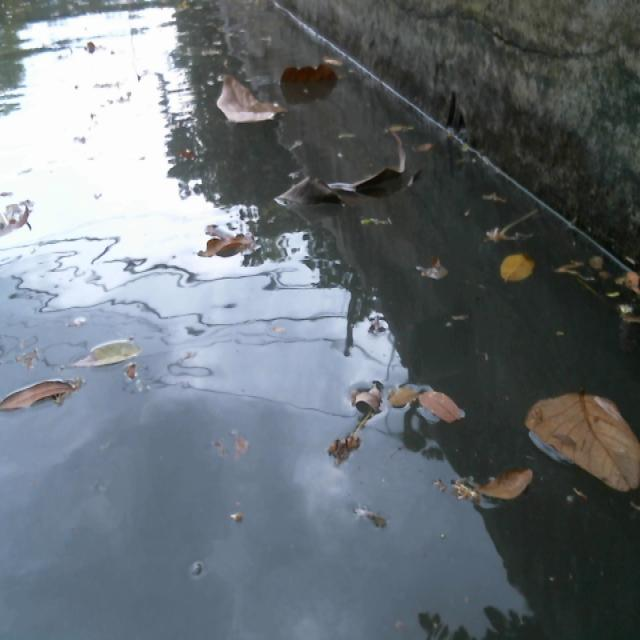Big-leaf: (275, 135, 422, 224), (535, 396, 640, 488), (219, 71, 284, 134), (191, 218, 250, 269), (281, 68, 336, 88)
Small-leaf: (0, 369, 78, 422), (419, 387, 475, 444), (460, 472, 536, 514), (72, 334, 148, 367), (401, 255, 455, 287), (494, 250, 532, 288), (418, 134, 454, 166), (373, 104, 407, 134), (620, 272, 640, 305), (170, 138, 199, 160), (395, 382, 417, 407)
